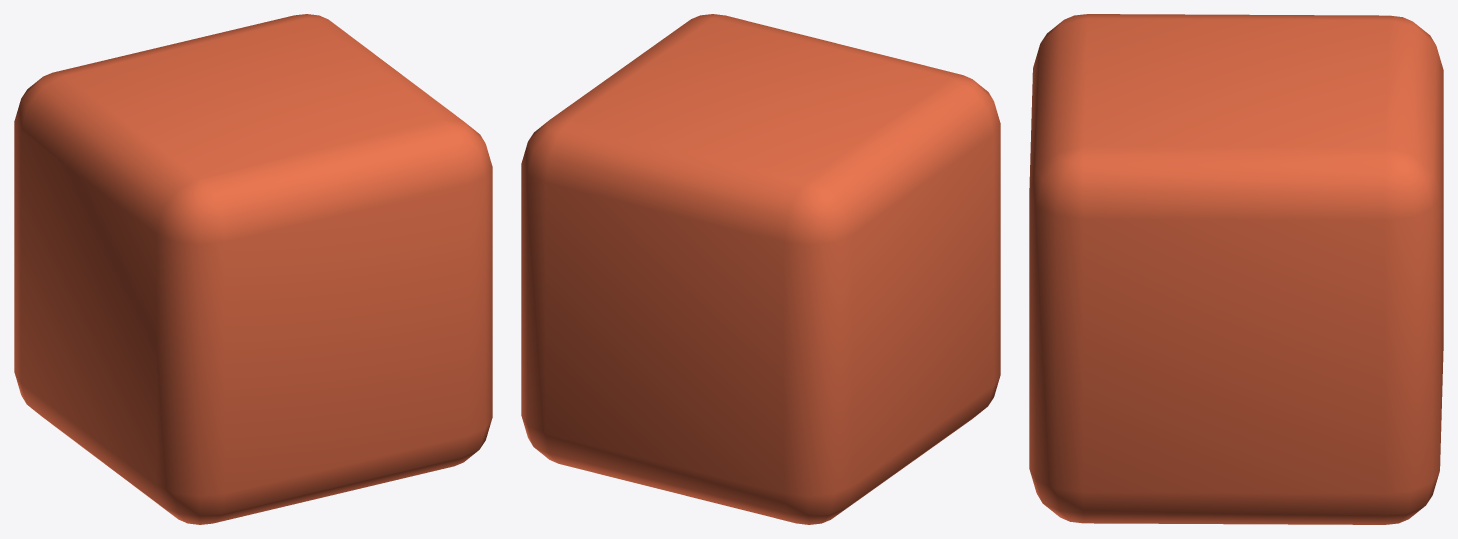
Rendered from joystickBox02.glb.
3 views of the same model, side by side, from view 1: azimuth 30°, elevation 25°; view 2: azimuth 150°, elevation 25°; view 3: azimuth 270°, elevation 25° (orthographic). The views are drawn at different scales.
Visible parts, largest first — view 1: joystickBox02; view 2: joystickBox02; view 3: joystickBox02.
Boxes of the visible parts, left/top/right/bottom form: joystickBox02: left=14, top=14, right=492, bottom=524; joystickBox02: left=521, top=14, right=1000, bottom=524; joystickBox02: left=1029, top=14, right=1443, bottom=524.
Bounding box in the file's own units: 0.3027 × 0.3 × 0.3027.
